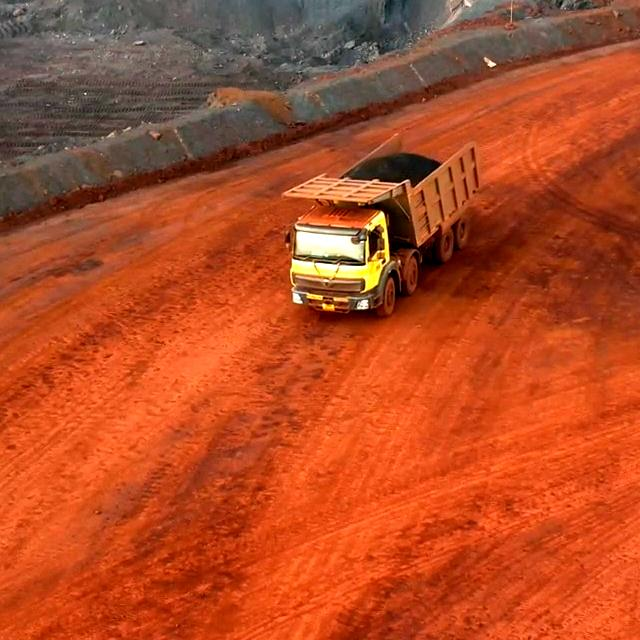Dumper truck: (285, 183, 402, 318)
